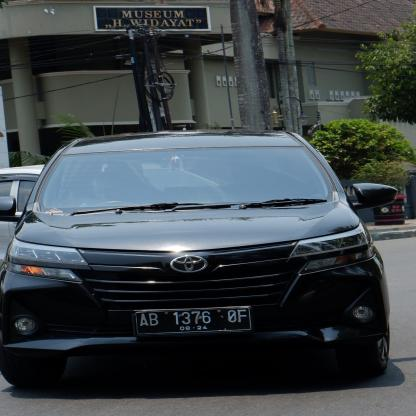Plat-Nomor: (128, 305, 254, 340)
